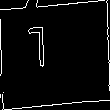L_S: (45, 29, 65, 81)
